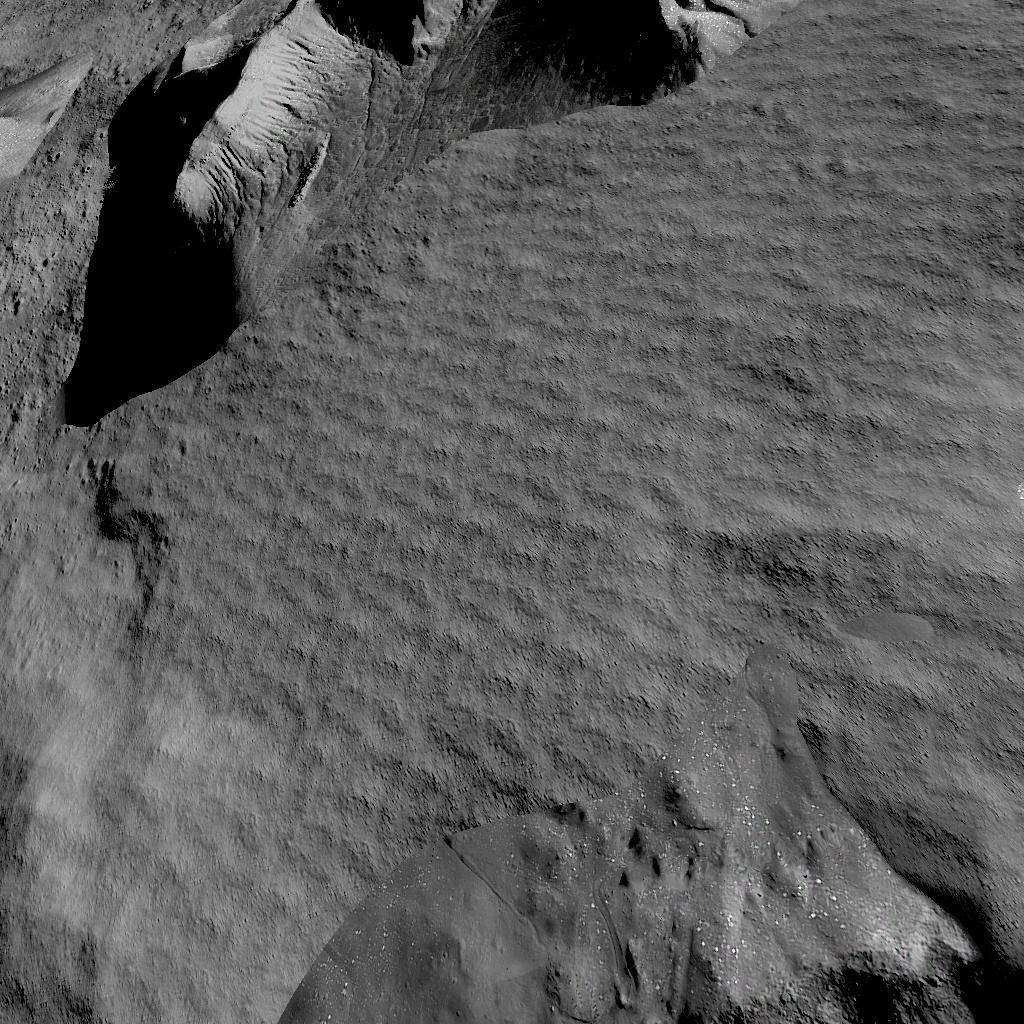Boulders: (61, 0, 803, 428)
Crater: (281, 812, 1024, 1024)
Plan surface: (0, 440, 1024, 800), (818, 0, 1024, 428), (0, 815, 268, 1024)
